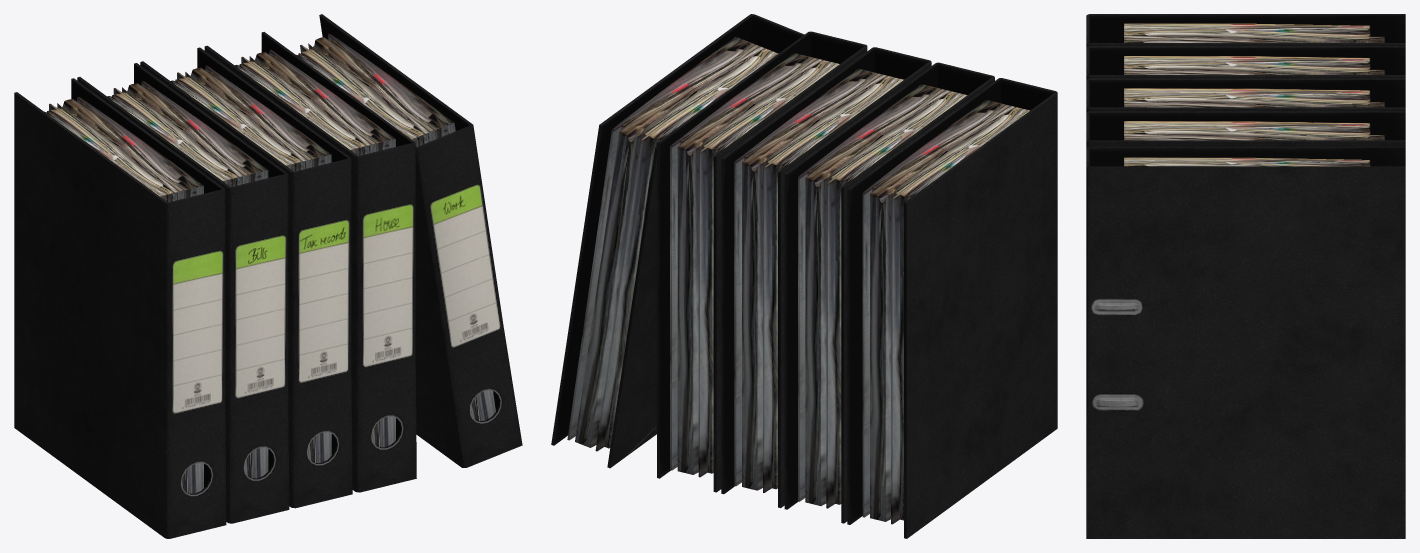
Rendered from several_folders.glb.
The picture shows the model from 3 angles, left to right: view 1: azimuth 30°, elevation 25°; view 2: azimuth 150°, elevation 25°; view 3: azimuth 270°, elevation 25°; orthographic projection. The views are drawn at different scales.
Visible parts, largest first — view 1: folder_LP_nolabel, folder_LP_Work, folder_LP_House, folder_LP_TaxRecords, folder_LP_Bills; view 2: folder_LP_nolabel, folder_LP_Work, folder_LP_House, folder_LP_TaxRecords, folder_LP_Bills; view 3: folder_LP_Work, folder_LP_House, folder_LP_TaxRecords, folder_LP_Bills, folder_LP_nolabel.
Part boxes in pixels (<box>): folder_LP_nolabel: <box>14,78,226,538</box>; folder_LP_Work: <box>296,14,522,467</box>; folder_LP_House: <box>204,32,416,492</box>; folder_LP_TaxRecords: <box>140,47,352,508</box>; folder_LP_Bills: <box>77,63,289,523</box>; folder_LP_nolabel: <box>847,78,1057,538</box>; folder_LP_Work: <box>551,14,804,468</box>; folder_LP_House: <box>657,31,867,492</box>; folder_LP_TaxRecords: <box>721,47,931,507</box>; folder_LP_Bills: <box>784,62,994,523</box>; folder_LP_Work: <box>1086,147,1405,538</box>; folder_LP_House: <box>1086,111,1405,147</box>; folder_LP_TaxRecords: <box>1086,78,1405,112</box>; folder_LP_Bills: <box>1086,46,1405,79</box>; folder_LP_nolabel: <box>1086,14,1405,47</box>.
Size of the model in its own units: 42.68 by 39.09 by 31.71.
5 materials, 5 textured.
